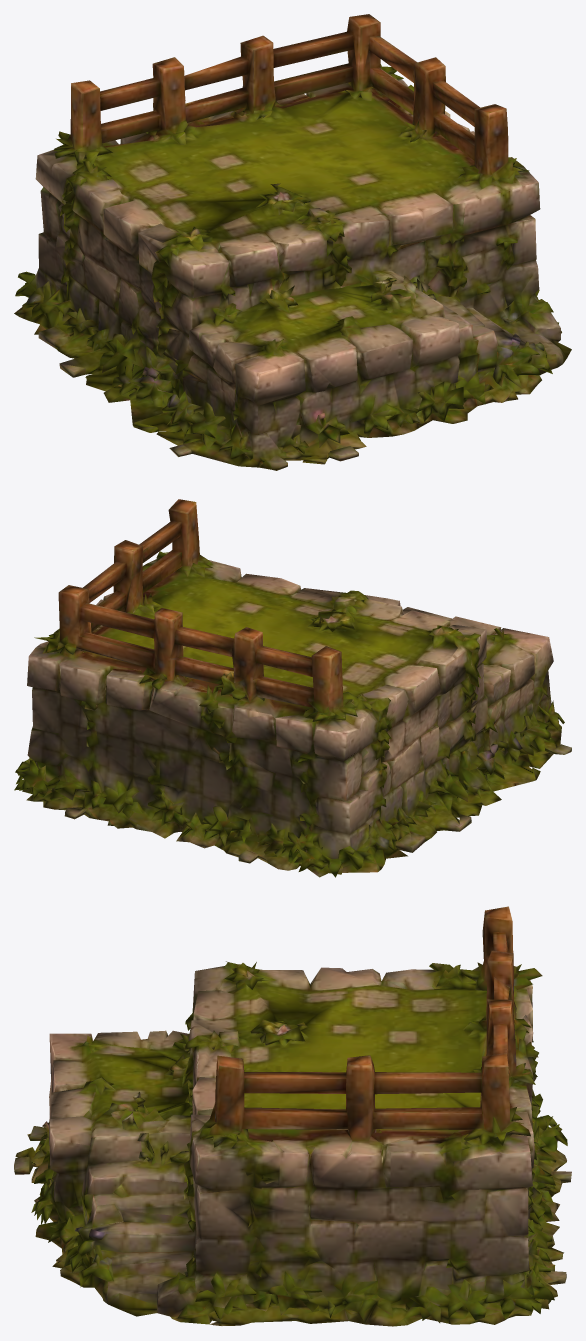
File: terrace-slab.glb
3 renders of one model, top to bottom at view 1: azimuth 30°, elevation 25°; view 2: azimuth 150°, elevation 25°; view 3: azimuth 270°, elevation 25°, orthographic. The views are drawn at different scales.
Visible parts, largest first — view 1: Mesh1.0; view 2: Mesh1.0; view 3: Mesh1.0.
Boxes of the visible parts, left/top/right/bottom form: Mesh1.0: left=14, top=14, right=571, bottom=470; Mesh1.0: left=14, top=499, right=571, bottom=877; Mesh1.0: left=14, top=906, right=571, bottom=1326.
Size of the model in its own units: 1.79 by 0.8816 by 1.87.
1 material, 1 textured.
